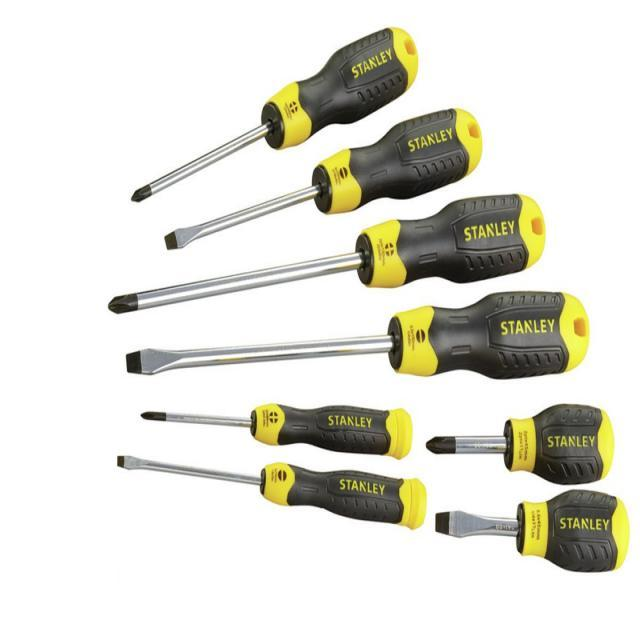screwdriver: (105, 188, 548, 314), (129, 22, 419, 208), (123, 287, 590, 393), (160, 106, 487, 252), (108, 449, 428, 528), (431, 486, 628, 580), (123, 399, 414, 462), (424, 402, 618, 488), (312, 433, 314, 439)
